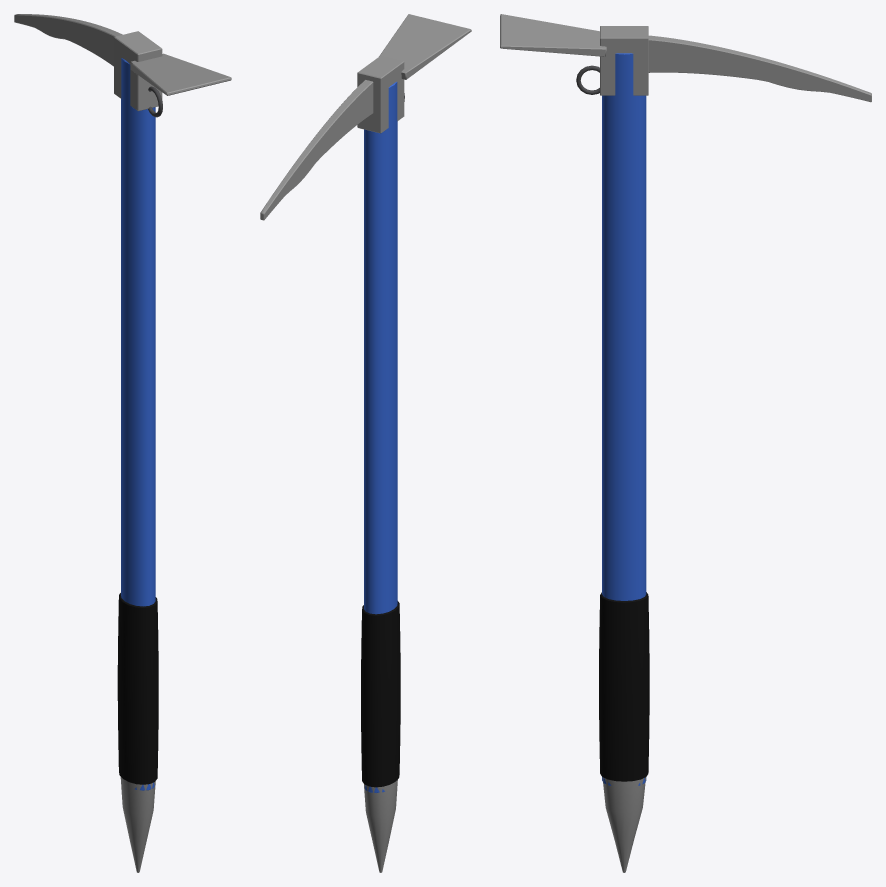
The model's file is ice_axe.glb.
3 views of the same model, side by side, from view 1: azimuth 30°, elevation 25°; view 2: azimuth 150°, elevation 25°; view 3: azimuth 270°, elevation 25° (orthographic). The views are drawn at different scales.
Parts seen in each view (by area): view 1: ice_axe; view 2: ice_axe; view 3: ice_axe.
Boxes of the visible parts, x1,y1,x2,y2 form: ice_axe: (14, 14, 231, 872); ice_axe: (260, 14, 471, 872); ice_axe: (500, 14, 871, 872).
Bounding box in the file's own units: 0.0498 × 0.6085 × 0.2433.
